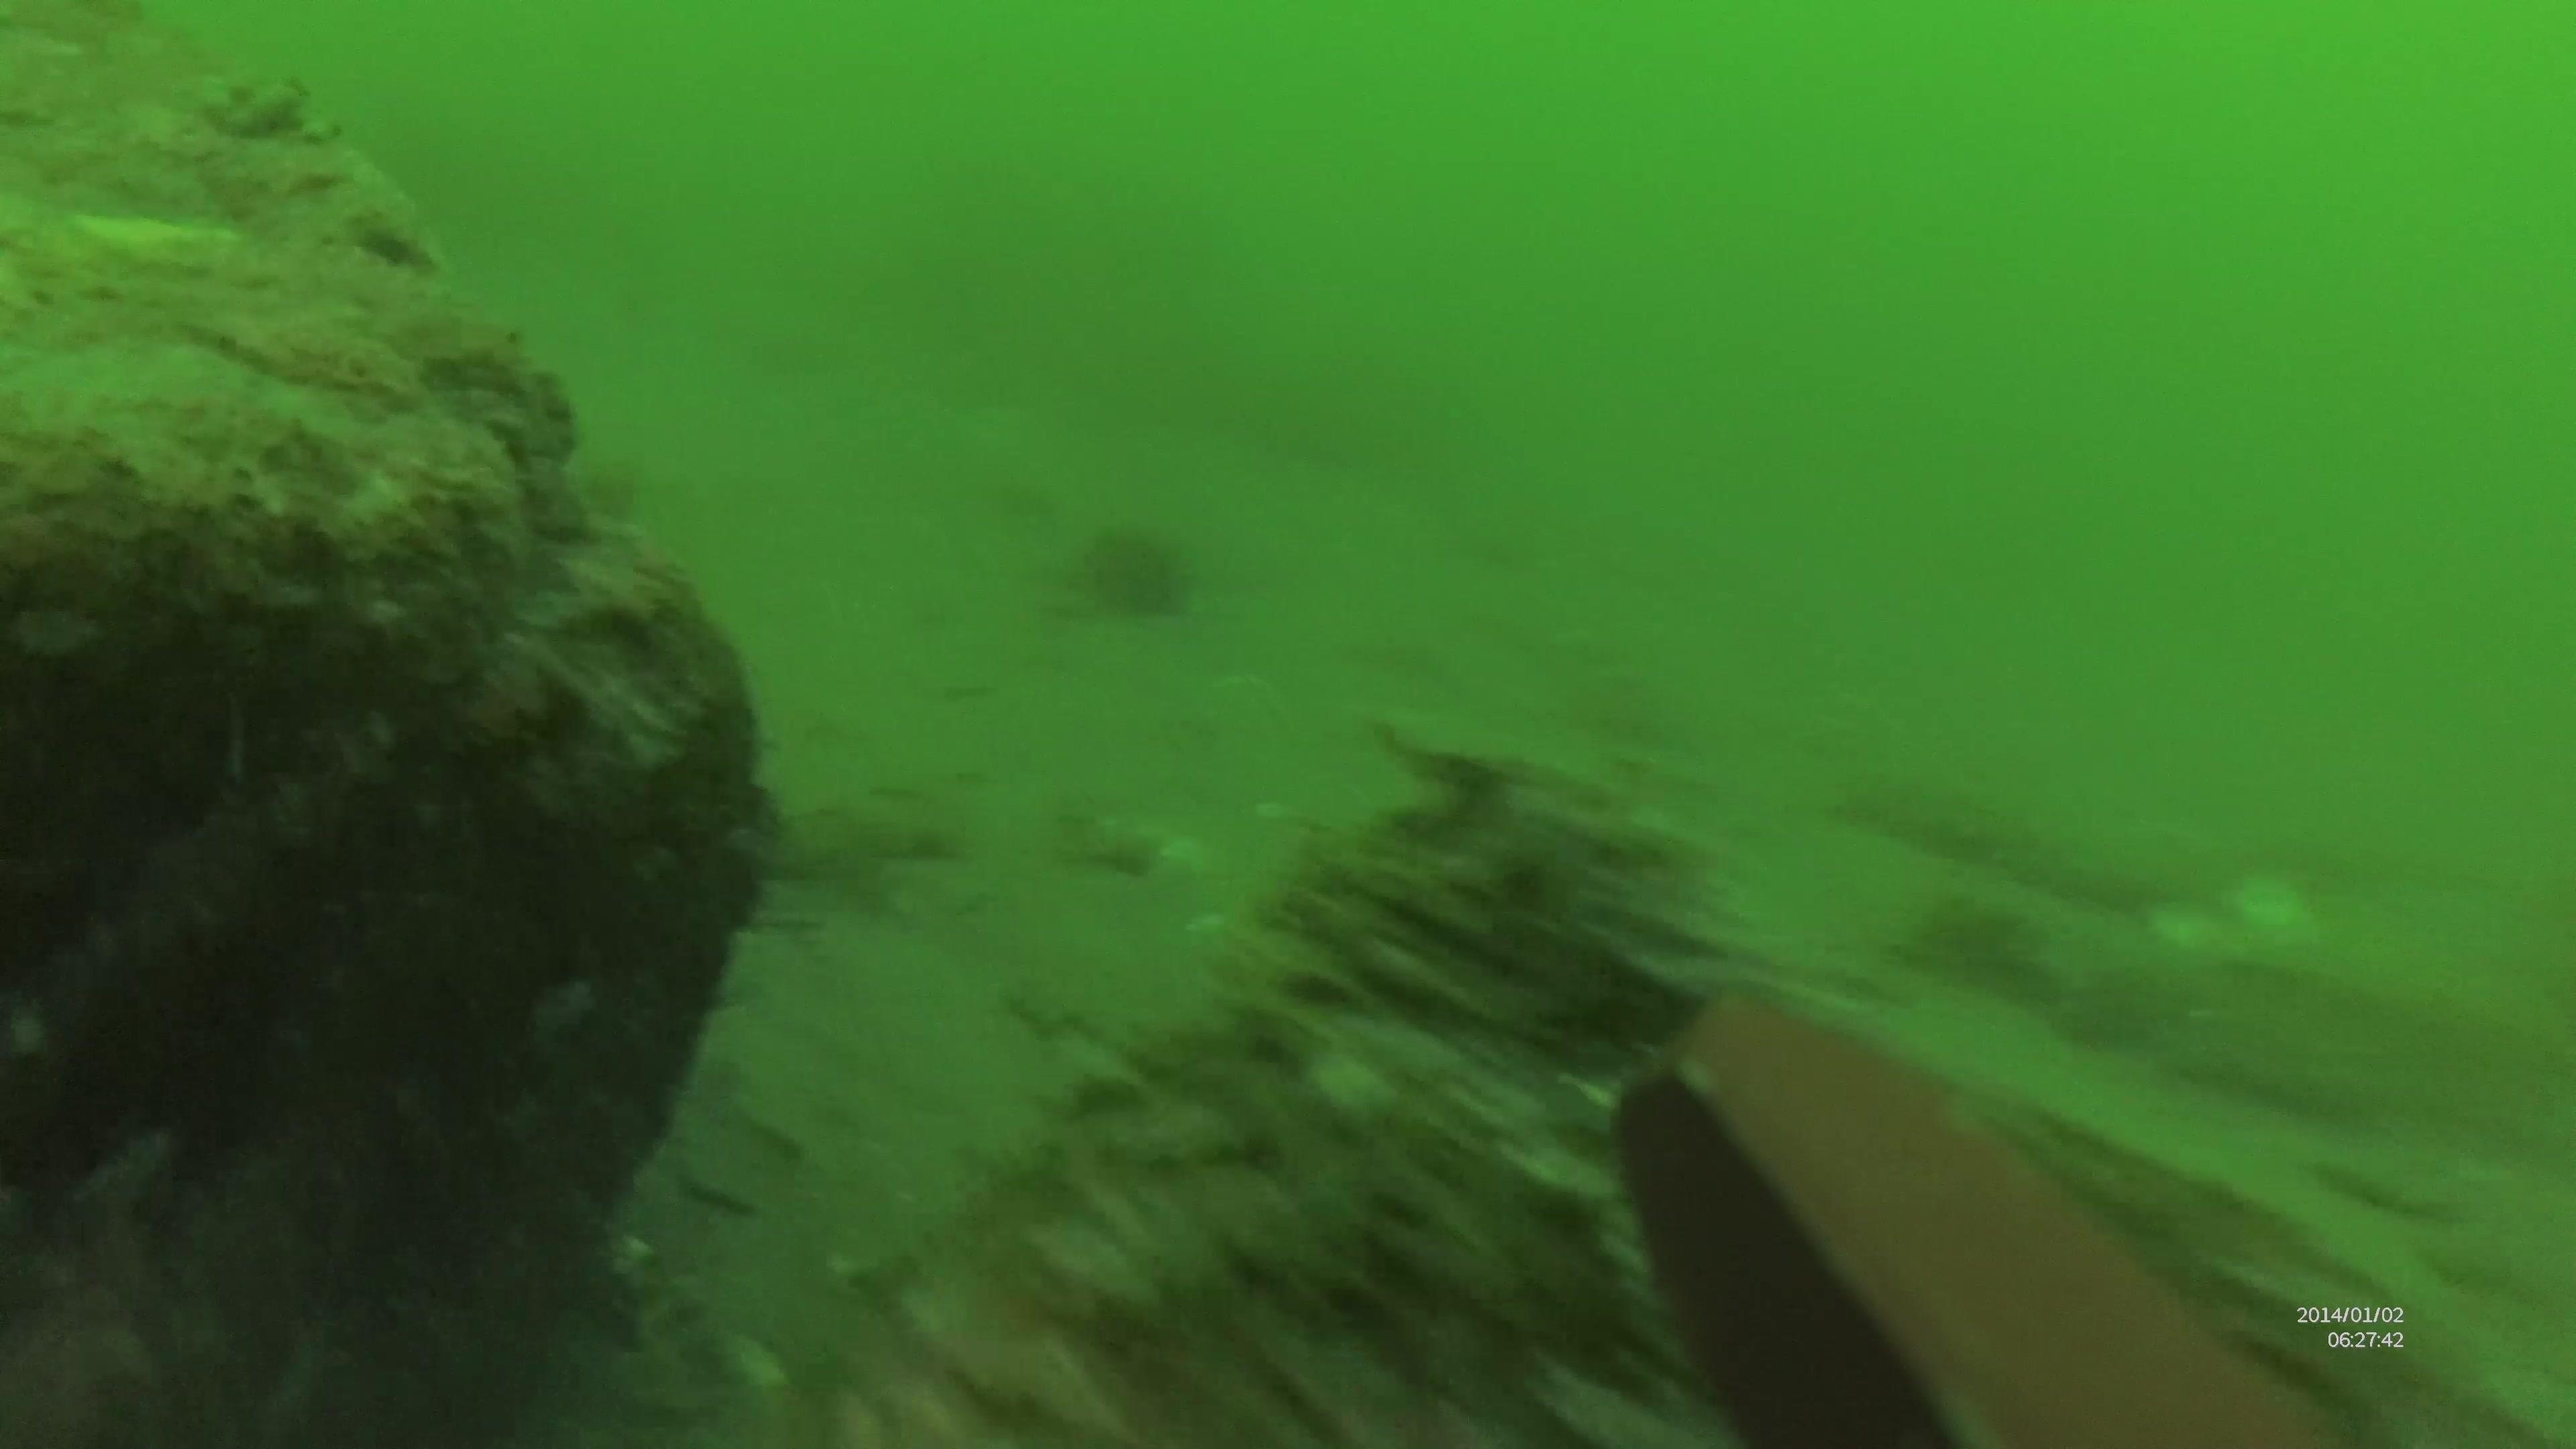echinus: (1067, 515, 1201, 630)
